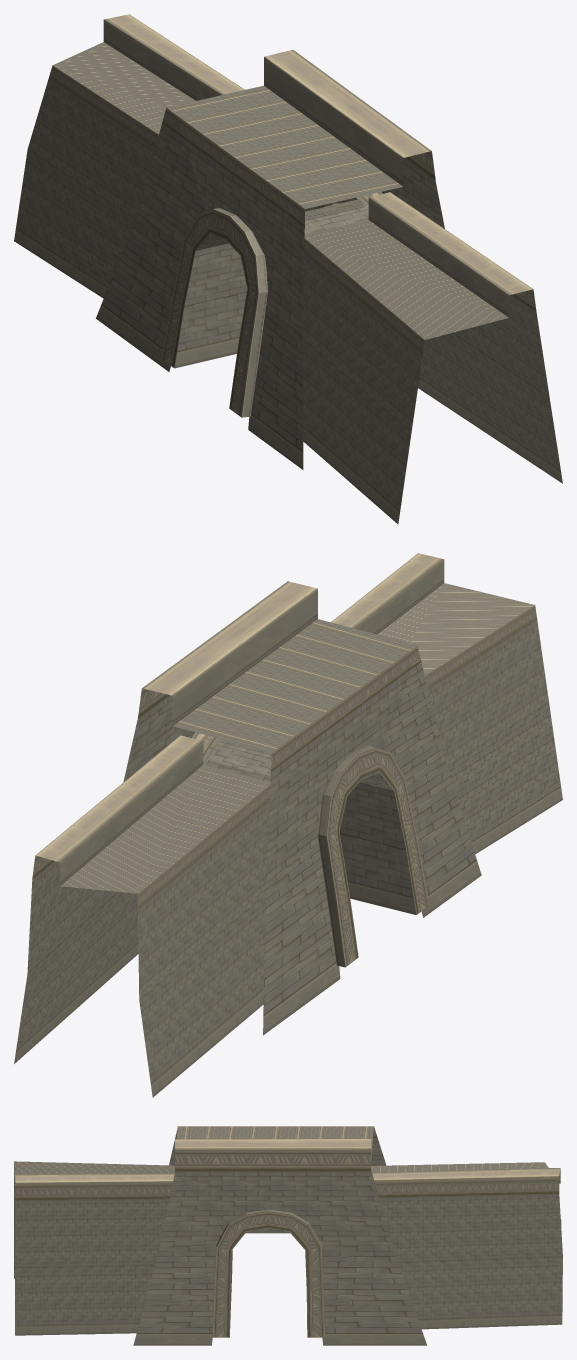
Rendered from BG_house_04.FBX.
3 views of the same model, one above another, from view 1: azimuth 30°, elevation 25°; view 2: azimuth 150°, elevation 25°; view 3: azimuth 270°, elevation 25° (orthographic). The views are drawn at different scales.
Visible parts, largest first — view 1: chach_jz006_1553; view 2: chach_jz006_1553; view 3: chach_jz006_1553.
Part boxes in pixels (left/top/right/bottom): chach_jz006_1553: left=14, top=14, right=562, bottom=524; chach_jz006_1553: left=14, top=553, right=562, bottom=1097; chach_jz006_1553: left=14, top=1126, right=562, bottom=1345.
Bounding box in the file's own units: 1.74 × 2.17 × 5.84.
